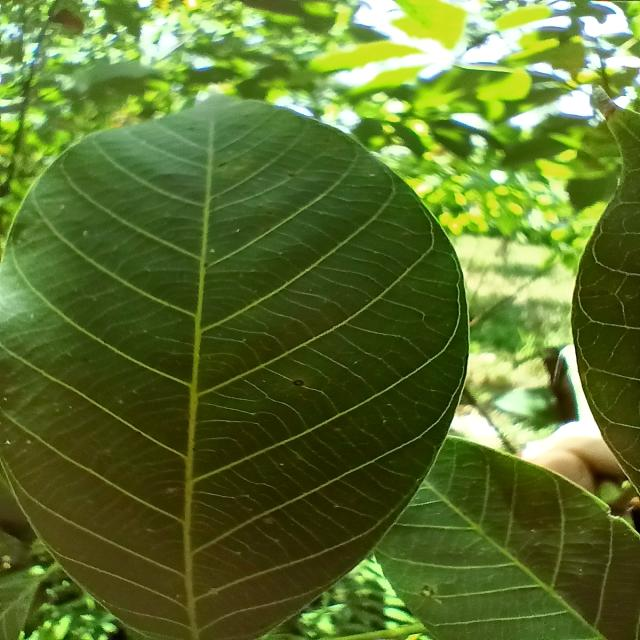Colletotrichum: (293, 379, 304, 386)
